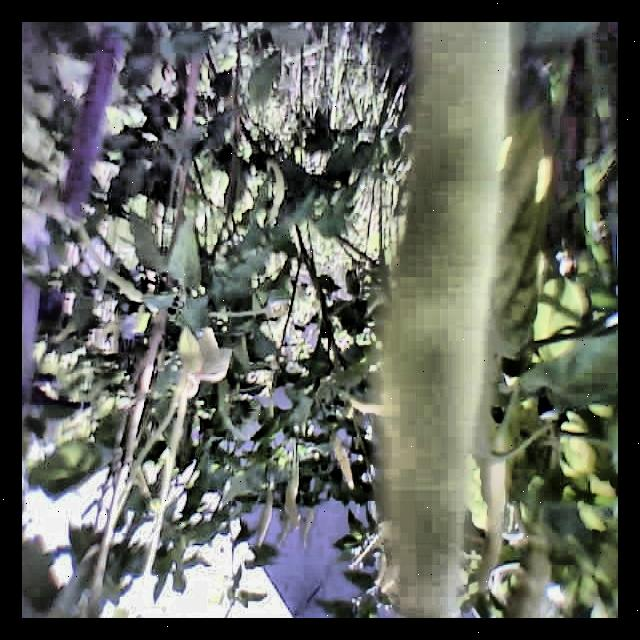Cabai: (390, 27, 499, 618)
